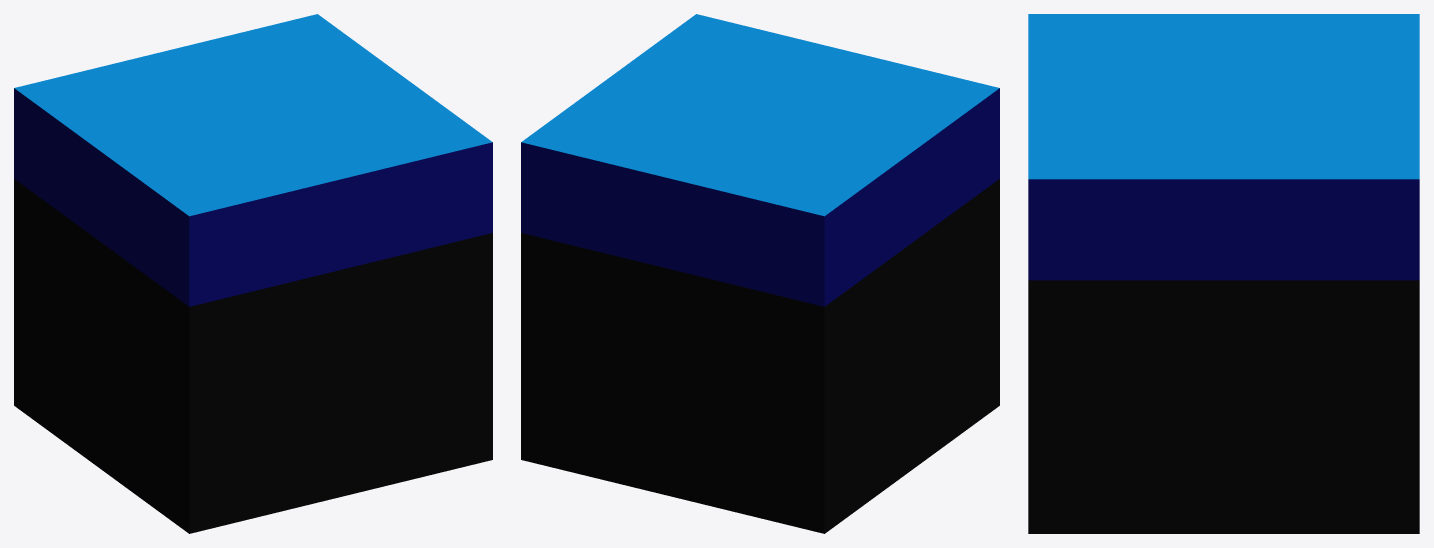
The model's file is Diorama_Base.fbx.
3 views of the same model, side by side, from view 1: azimuth 30°, elevation 25°; view 2: azimuth 150°, elevation 25°; view 3: azimuth 270°, elevation 25° (orthographic). The views are drawn at different scales.
Visible parts, largest first — view 1: Cube; view 2: Cube; view 3: Cube.
Part boxes in pixels (x1,y1,x2,y2): Cube: [14, 14, 492, 533]; Cube: [521, 14, 999, 533]; Cube: [1028, 14, 1419, 533].
Size of the model in its own units: 1259 by 1259 by 1259.
